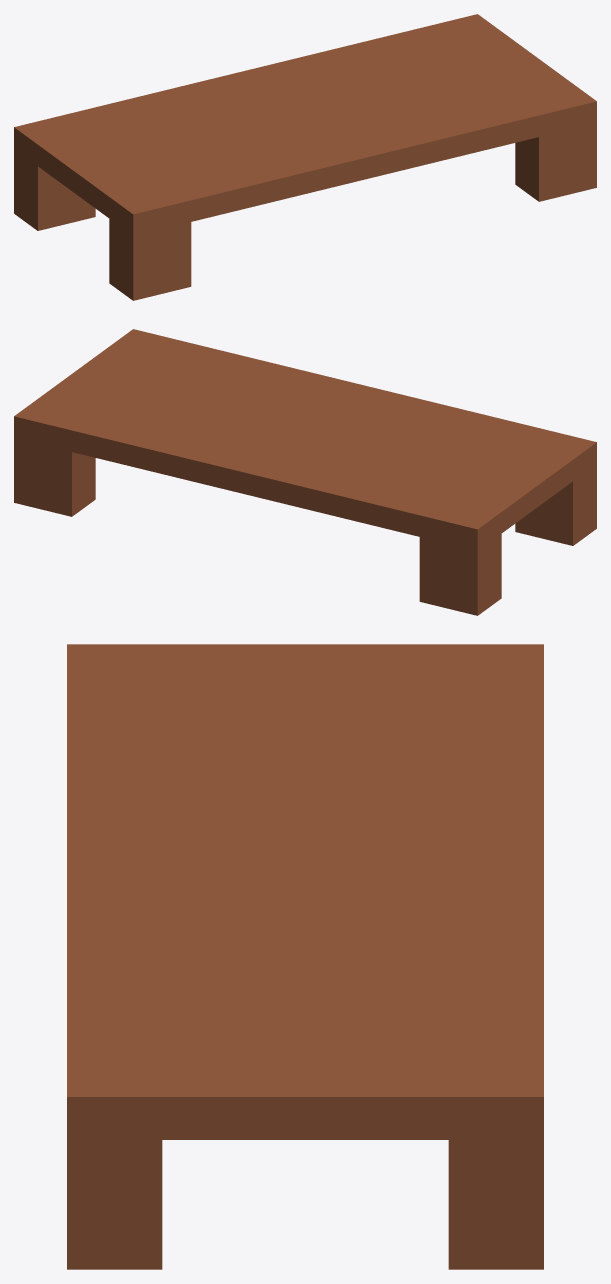
File: Table.fbx
The picture shows the model from 3 angles, top to bottom: view 1: azimuth 30°, elevation 25°; view 2: azimuth 150°, elevation 25°; view 3: azimuth 270°, elevation 25°; orthographic projection. The views are drawn at different scales.
Parts seen in each view (by area): view 1: Table; view 2: Table; view 3: Table.
Part boxes in pixels (x1,y1,x2,y2): Table: [14, 14, 596, 300]; Table: [14, 329, 596, 615]; Table: [67, 644, 543, 1269].
Size of the model in its own units: 17.73 by 3.16 by 7.9.
